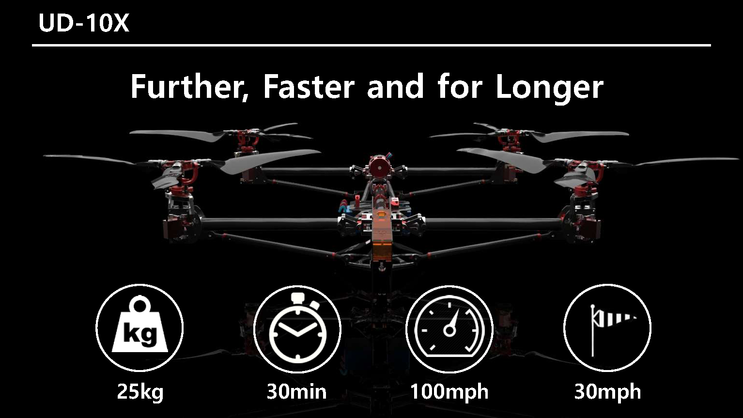drone: (32, 125, 743, 274)
